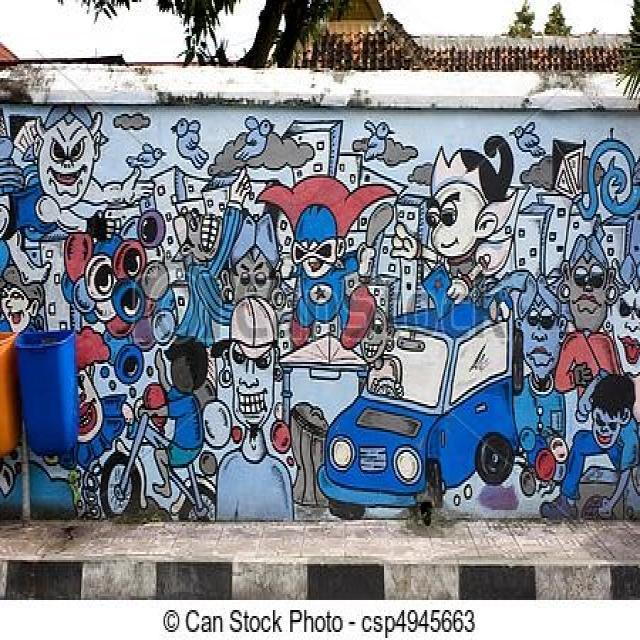-: (0, 102, 637, 520)
